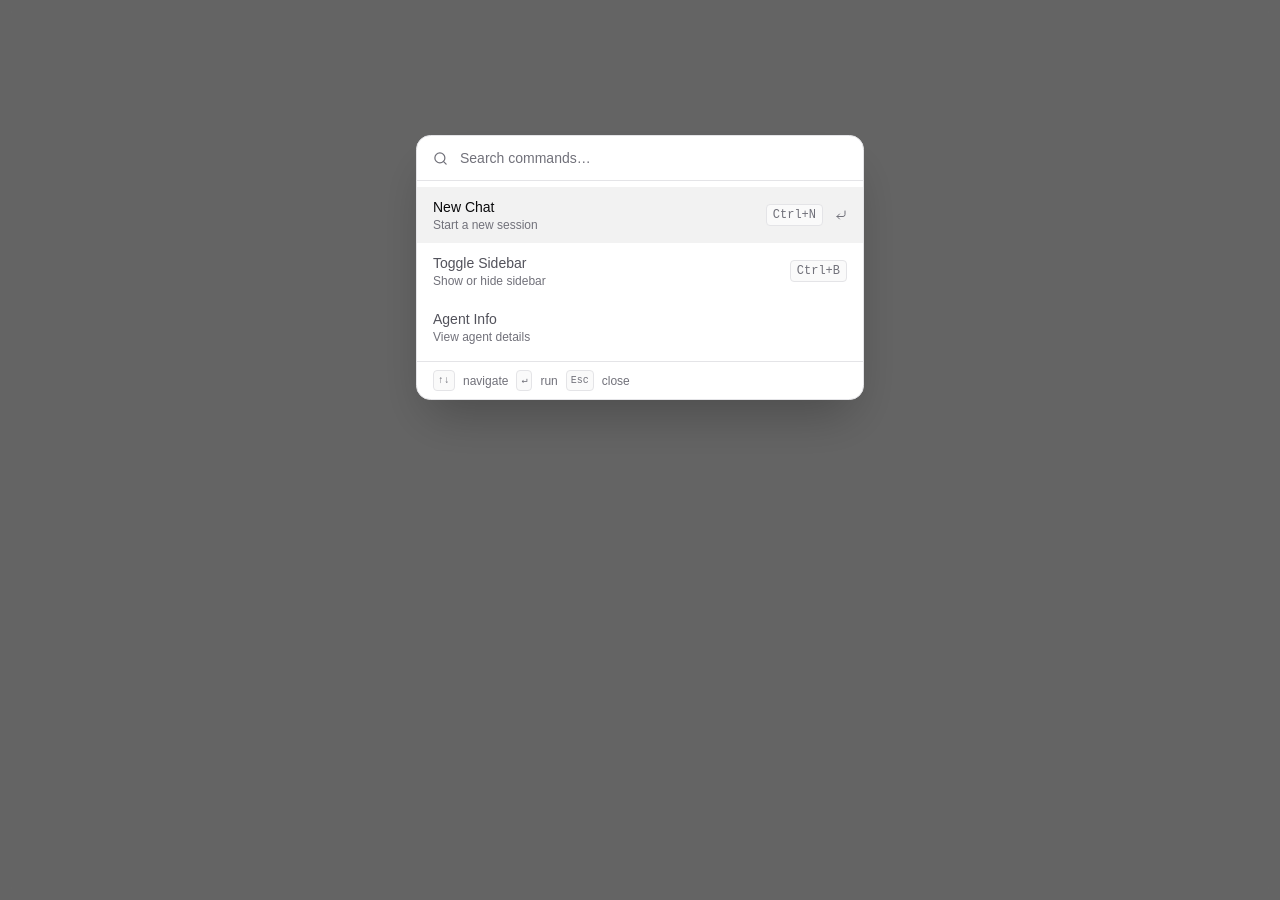
it: CommandPalette › shows no-match message when query has no results
This screenshot has width=1280, height=900.
Type "xyznotfound" into the field with placeholder "Search commands…". click: (654, 158)
box: top-left (460, 148), bottom-right (847, 168)
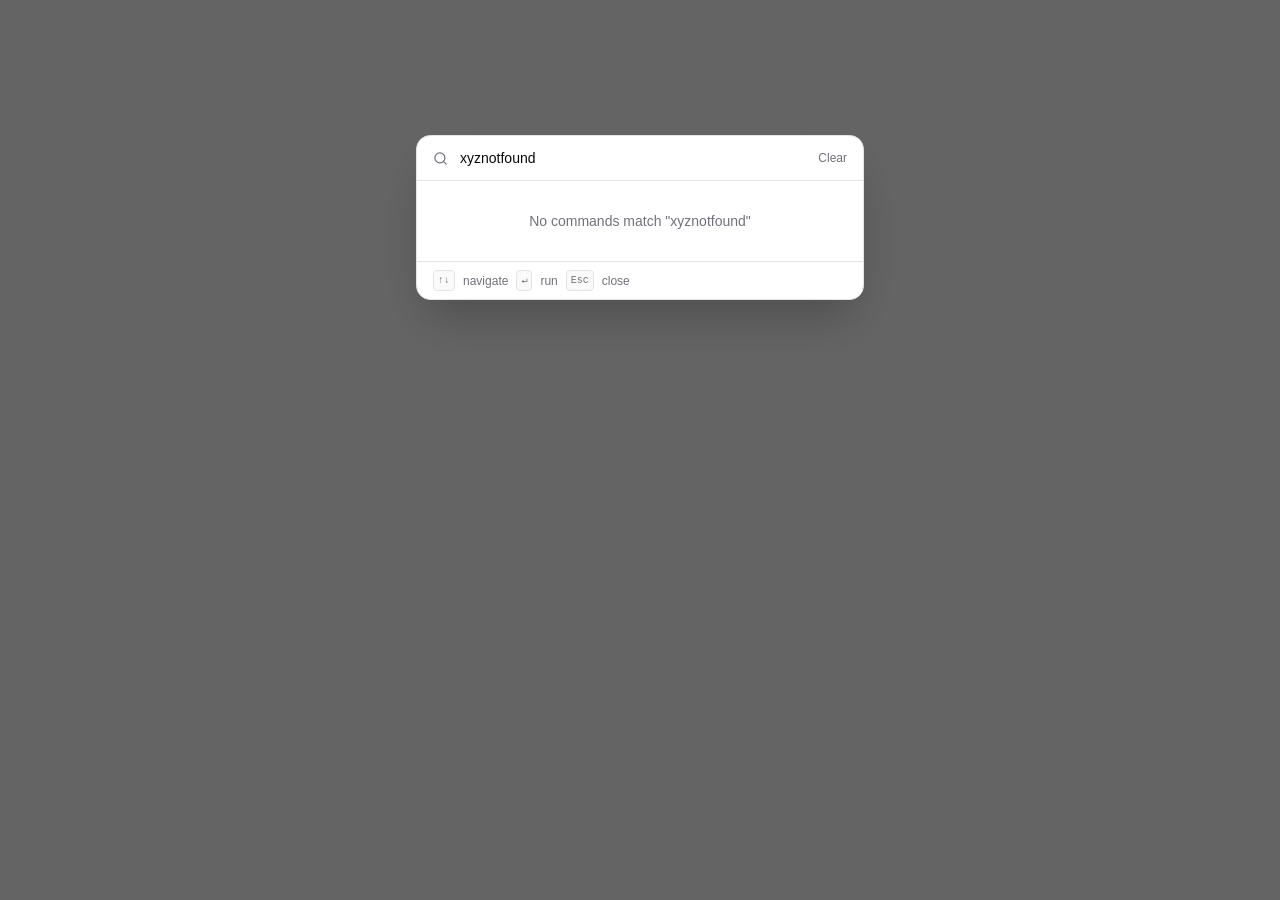
Expected: the text "No commands match \"xyznotfound\"" is shown, top-left (529, 213), bottom-right (751, 229)
